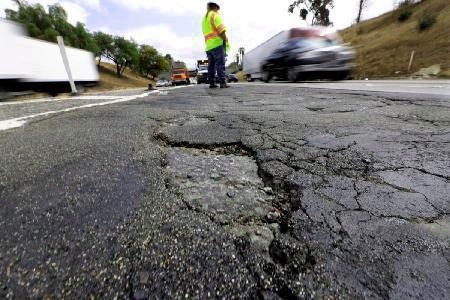pothole: (146, 130, 303, 230), (233, 235, 315, 298), (155, 112, 213, 128)
